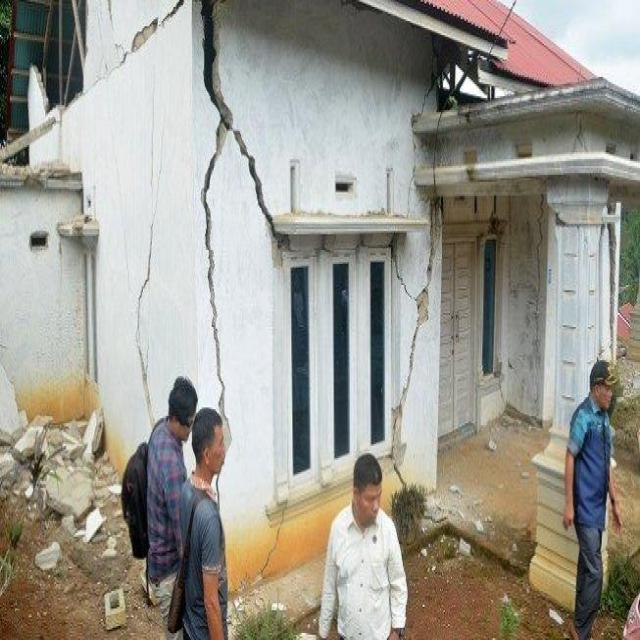damage: (0, 390, 134, 577), (192, 0, 241, 448), (395, 219, 443, 490), (232, 105, 292, 301), (114, 212, 166, 436), (235, 502, 290, 602), (529, 187, 554, 393), (115, 0, 180, 79), (411, 49, 449, 145)
